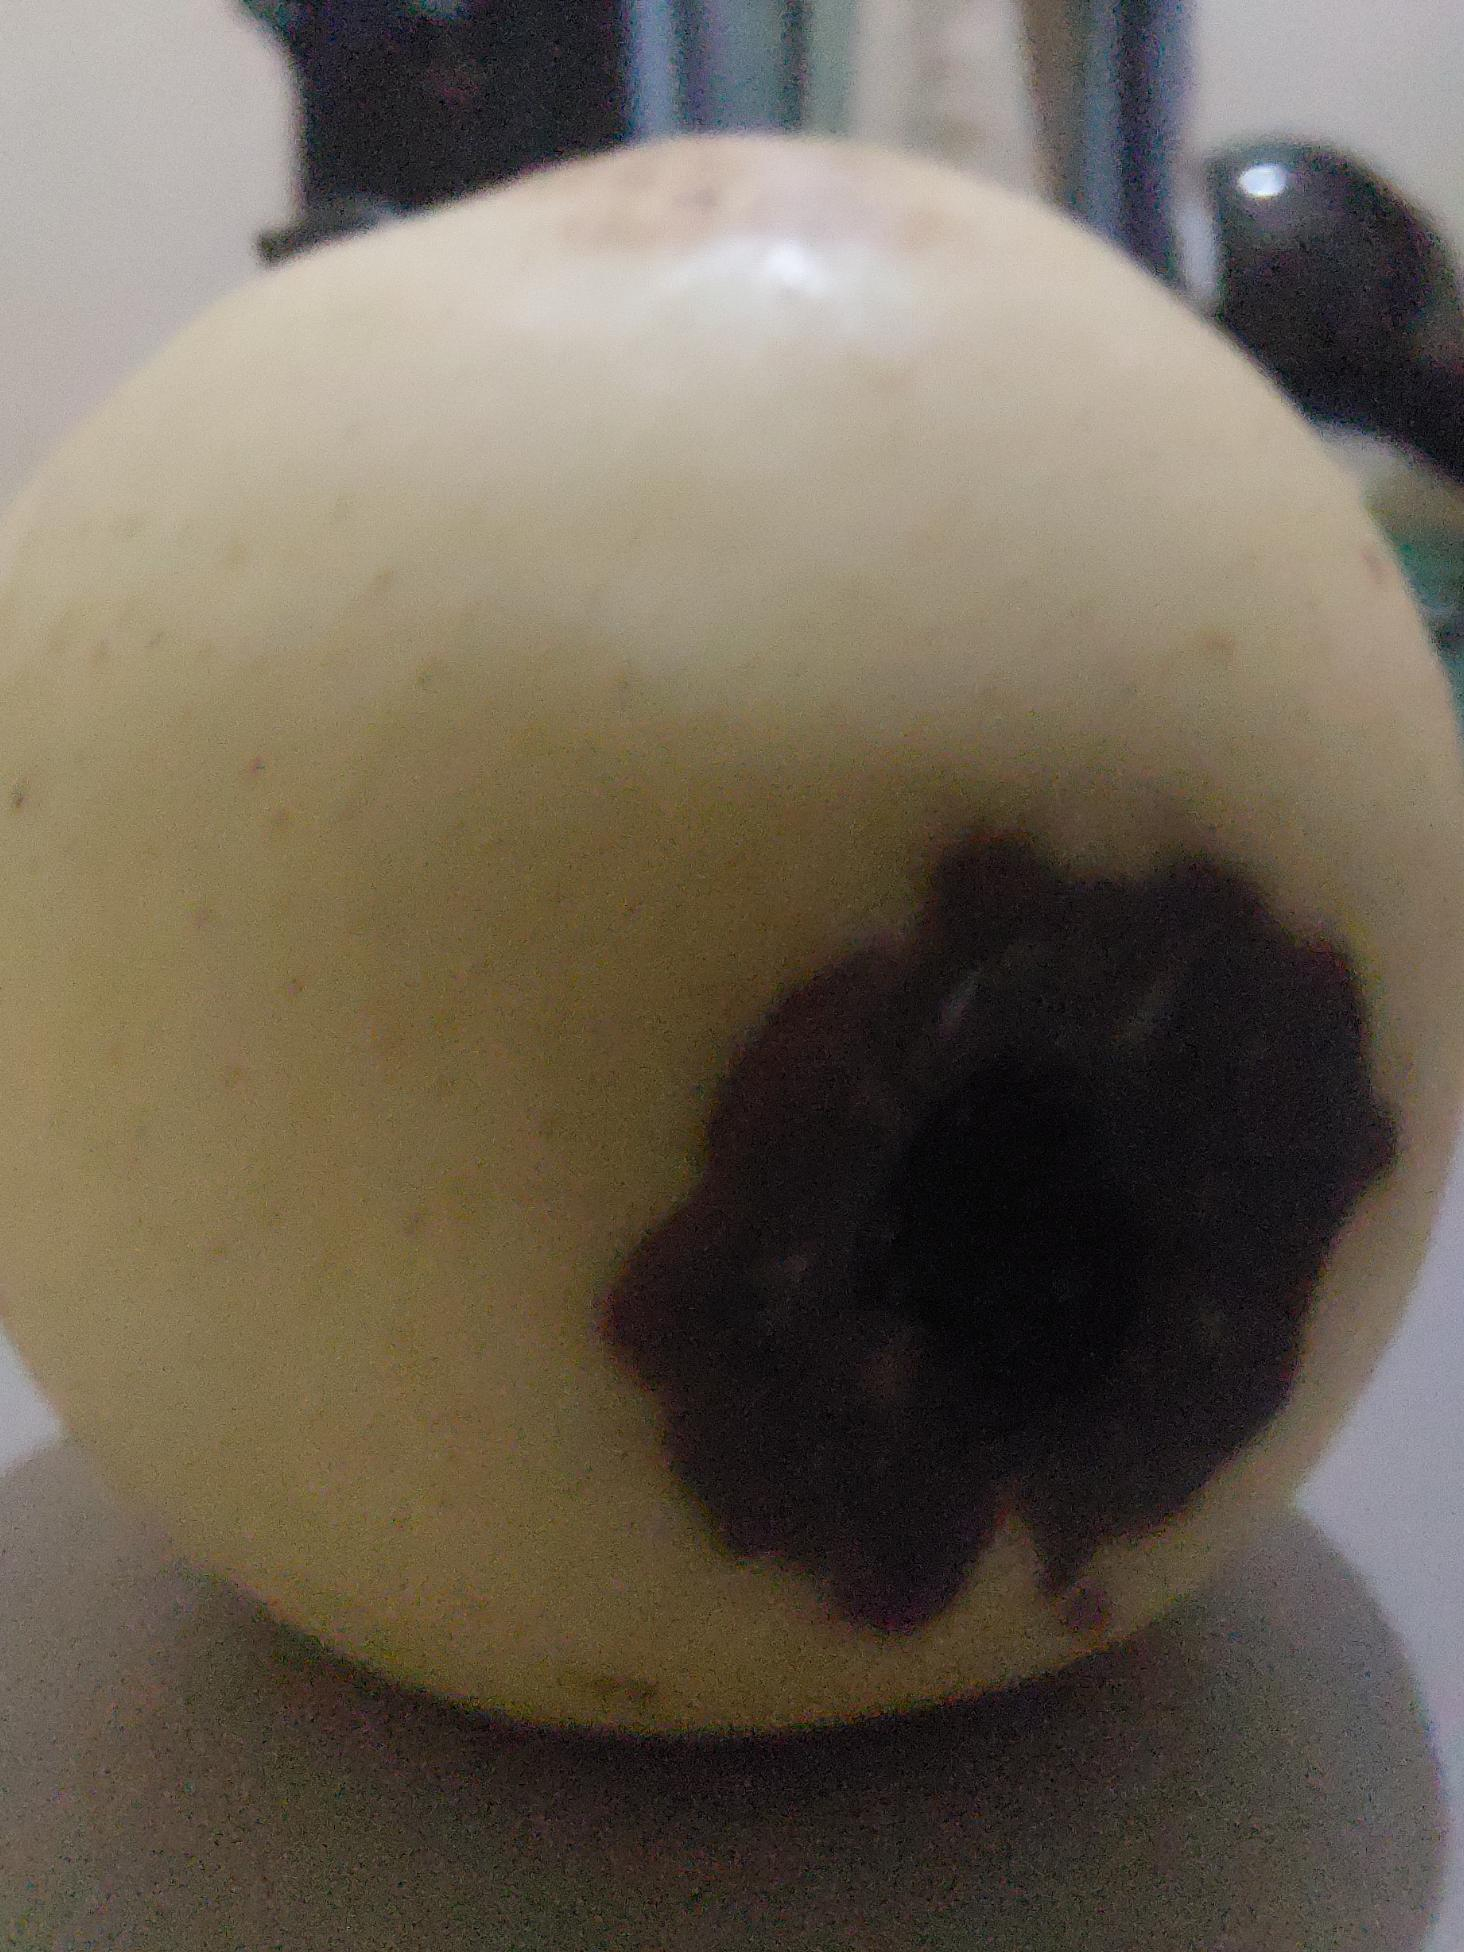Bad Pear: (0, 118, 1464, 1757)
